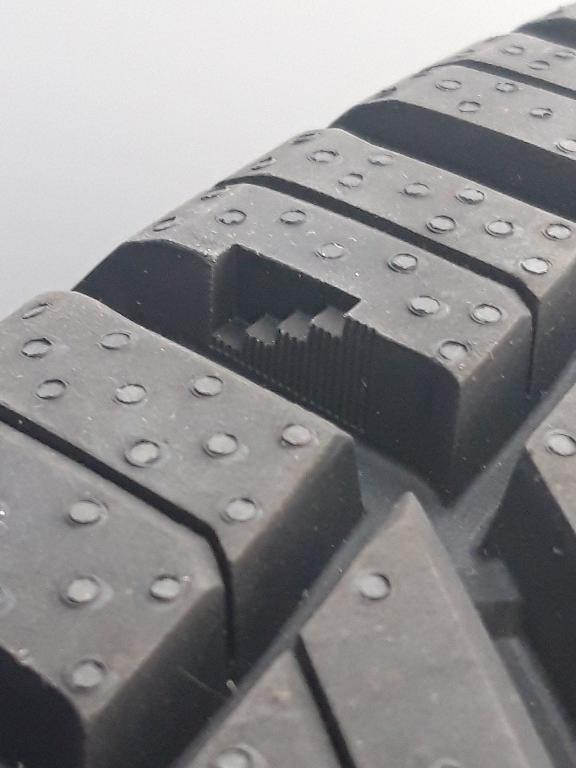temoin:100: (203, 239, 381, 440)
